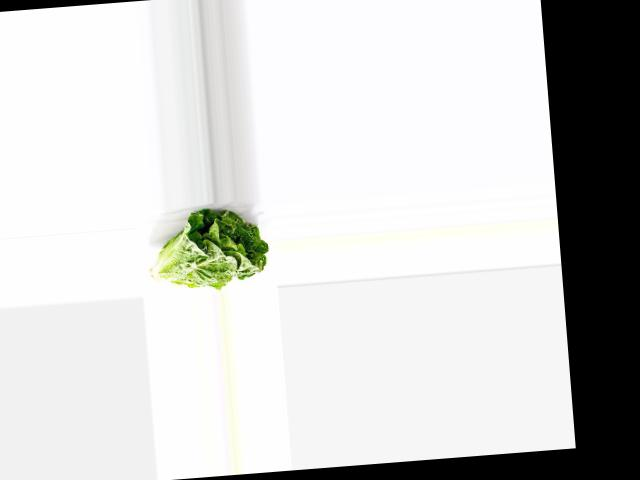lettuce: (147, 203, 270, 295)
